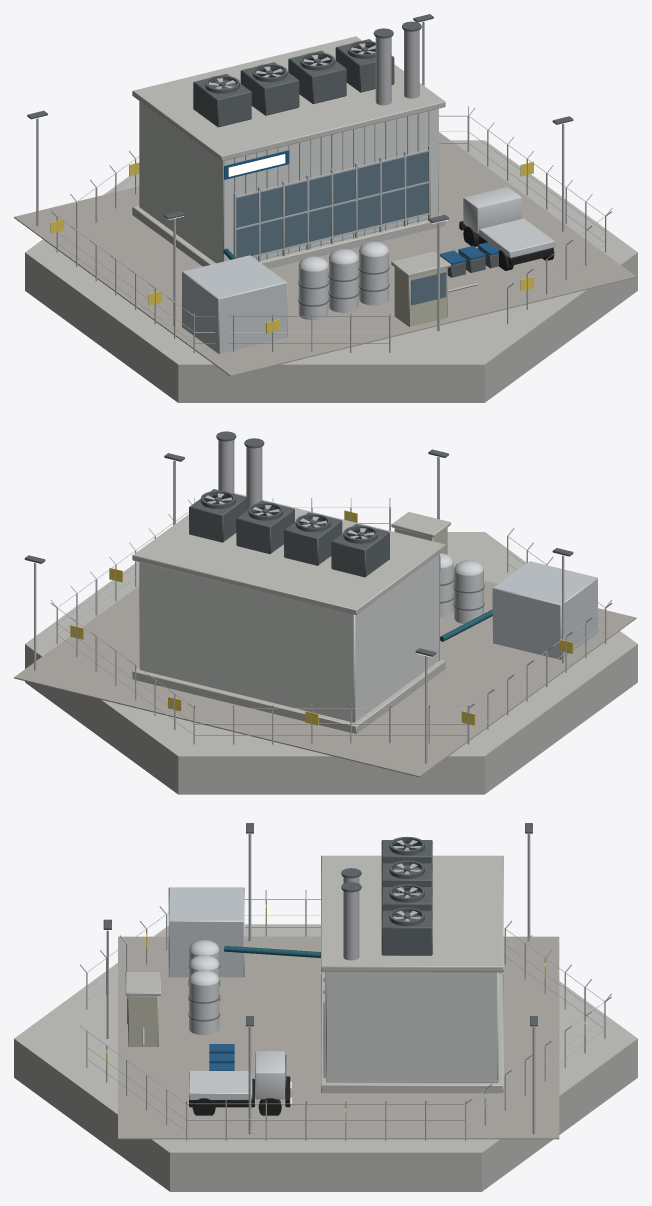
Rendered from chipFab.glb.
3 views of the same model, one above another, from view 1: azimuth 30°, elevation 25°; view 2: azimuth 150°, elevation 25°; view 3: azimuth 270°, elevation 25° (orthographic).
Parts seen in each view (by area): view 1: wall_concrete, gravel, cladding, metal, glass, paint, steel_dark, dark, hazard, glow_warm; view 2: wall_concrete, cladding, gravel, steel_dark, metal, paint, hazard; view 3: wall_concrete, gravel, cladding, metal, paint, steel_dark, dark.
Boxes of the visible parts, <box> form: wall_concrete: <box>25,36,637,402</box>; gravel: <box>14,132,636,376</box>; cladding: <box>139,101,447,353</box>; metal: <box>36,21,612,352</box>; glass: <box>236,151,446,305</box>; paint: <box>223,150,554,320</box>; steel_dark: <box>27,14,573,277</box>; dark: <box>208,45,554,270</box>; hazard: <box>50,161,533,333</box>; glow_warm: <box>29,19,571,223</box>; wall_concrete: <box>25,493,637,794</box>; cladding: <box>139,528,597,722</box>; gravel: <box>14,573,636,777</box>; steel_dark: <box>24,431,573,656</box>; metal: <box>34,440,612,763</box>; paint: <box>440,553,492,641</box>; hazard: <box>70,510,573,725</box>; wall_concrete: <box>14,855,637,1191</box>; gravel: <box>118,936,559,1139</box>; cladding: <box>128,887,498,1082</box>; metal: <box>80,834,611,1140</box>; paint: <box>188,940,320,1099</box>; steel_dark: <box>103,823,537,1026</box>; dark: <box>189,841,420,1115</box>.
Size of the model in its own units: 21.3 by 10.33 by 24.6.
